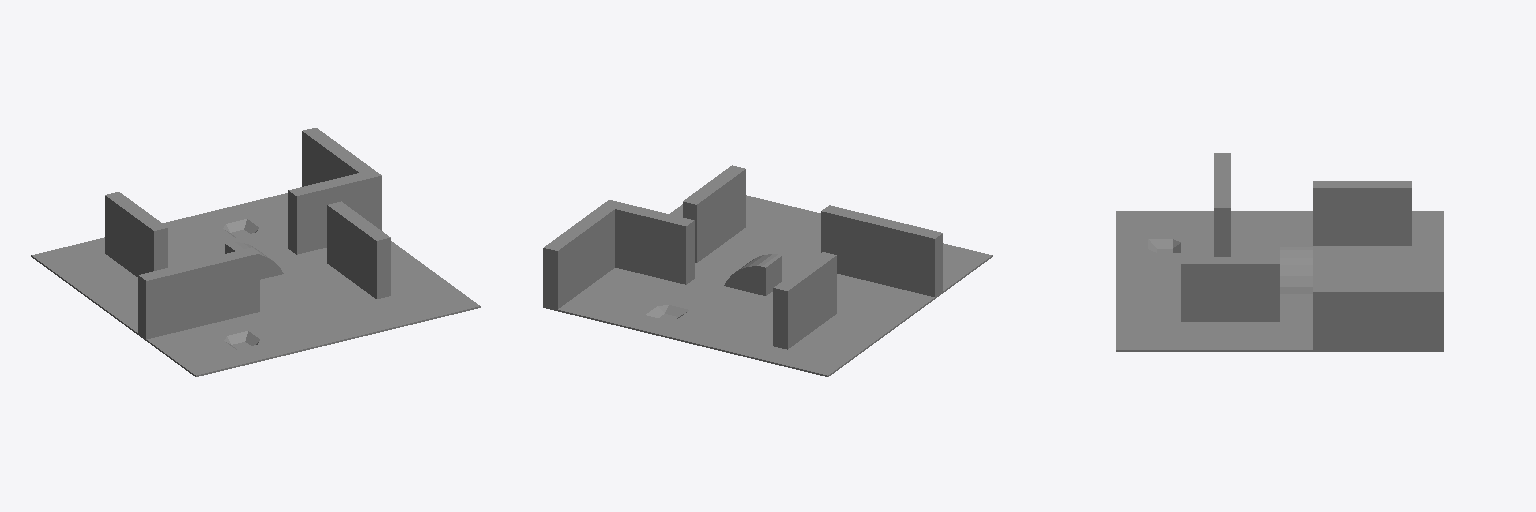
The model's file is map.obj.
3 renders of one model, left to right at view 1: azimuth 30°, elevation 25°; view 2: azimuth 150°, elevation 25°; view 3: azimuth 270°, elevation 25°, orthographic.
Parts seen in each view (by area): view 1: Box01, Box02, Box08, Box07, Box04, Box06, Box16, Box17; view 2: Box01, Box02, Box07, Box06, Box04, Box08, Box17; view 3: Box01, Box06, Box04, Box08, Box02, Box17, Box07.
Boxes of the visible parts, <box> form: Box01: <box>31,193,480,376</box>; Box02: <box>138,247,259,339</box>; Box08: <box>327,201,390,298</box>; Box07: <box>288,170,381,254</box>; Box04: <box>105,192,167,276</box>; Box06: <box>302,128,381,230</box>; Box16: <box>219,219,263,349</box>; Box17: <box>225,242,283,279</box>; Box01: <box>543,195,992,376</box>; Box02: <box>821,205,942,297</box>; Box07: <box>601,200,694,284</box>; Box06: <box>543,200,622,309</box>; Box04: <box>773,252,836,349</box>; Box08: <box>683,165,745,262</box>; Box17: <box>724,254,781,295</box>; Box01: <box>1116,211,1443,351</box>; Box06: <box>1313,285,1443,350</box>; Box04: <box>1313,181,1411,245</box>; Box08: <box>1181,257,1279,321</box>; Box02: <box>1214,153,1230,256</box>; Box17: <box>1280,245,1312,293</box>; Box07: <box>1313,250,1328,350</box>.
Bounding box in the file's own units: 100 × 22.61 × 100.